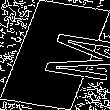M_W: (7, 26, 103, 84)
